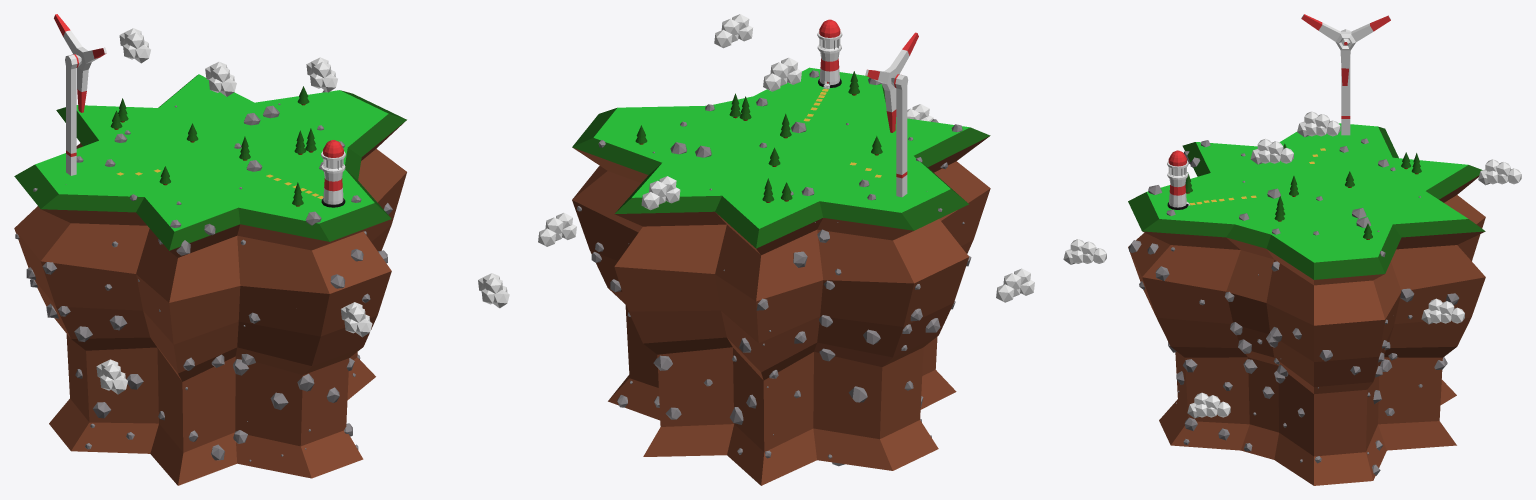
File: final-island.glb
The picture shows the model from 3 angles, left to right: view 1: azimuth 30°, elevation 25°; view 2: azimuth 150°, elevation 25°; view 3: azimuth 270°, elevation 25°; orthographic projection. The views are drawn at different scales.
Parts seen in each view (by area): view 1: Island, Wind turbine, Light House, Propeller, Cloud.011, Cloud.002, Cloud.003, Cloud.019, Cloud.024, Cloud.029; view 2: Island, Wind turbine, Light House, Propeller, Cloud.029, Cloud.003, Cloud.011, Cloud.002, Cloud.031; view 3: Island, Propeller, Light House, Cloud.003, Cloud.019, Cloud.031, Cloud.002, Cloud.024, Cloud.029, Wind turbine.
Boxes of the visible parts, x1,y1,x2,y2 form: Island: [14, 74, 406, 485]; Wind turbine: [65, 54, 81, 175]; Light House: [321, 140, 345, 207]; Propeller: [54, 14, 106, 112]; Cloud.011: [96, 359, 127, 394]; Cloud.002: [205, 61, 236, 96]; Cloud.003: [306, 57, 337, 92]; Cloud.019: [478, 273, 509, 308]; Cloud.024: [340, 302, 372, 337]; Cloud.029: [119, 28, 150, 63]; Island: [572, 67, 990, 485]; Wind turbine: [891, 74, 908, 197]; Light House: [817, 19, 842, 88]; Propeller: [865, 32, 918, 132]; Cloud.029: [641, 176, 680, 210]; Cloud.003: [714, 14, 752, 48]; Cloud.011: [996, 268, 1034, 302]; Cloud.002: [763, 57, 801, 91]; Cloud.031: [538, 213, 576, 246]; Island: [1128, 123, 1485, 485]; Propeller: [1301, 14, 1390, 85]; Light House: [1167, 150, 1190, 209]; Cloud.003: [1250, 138, 1293, 164]; Cloud.019: [1187, 392, 1230, 418]; Cloud.031: [1421, 298, 1464, 324]; Cloud.002: [1297, 111, 1340, 137]; Cloud.024: [1063, 239, 1106, 264]; Cloud.029: [1478, 159, 1521, 185]; Wind turbine: [1341, 29, 1350, 135].
Size of the model in its own units: 39.7 by 38.4 by 44.33.
